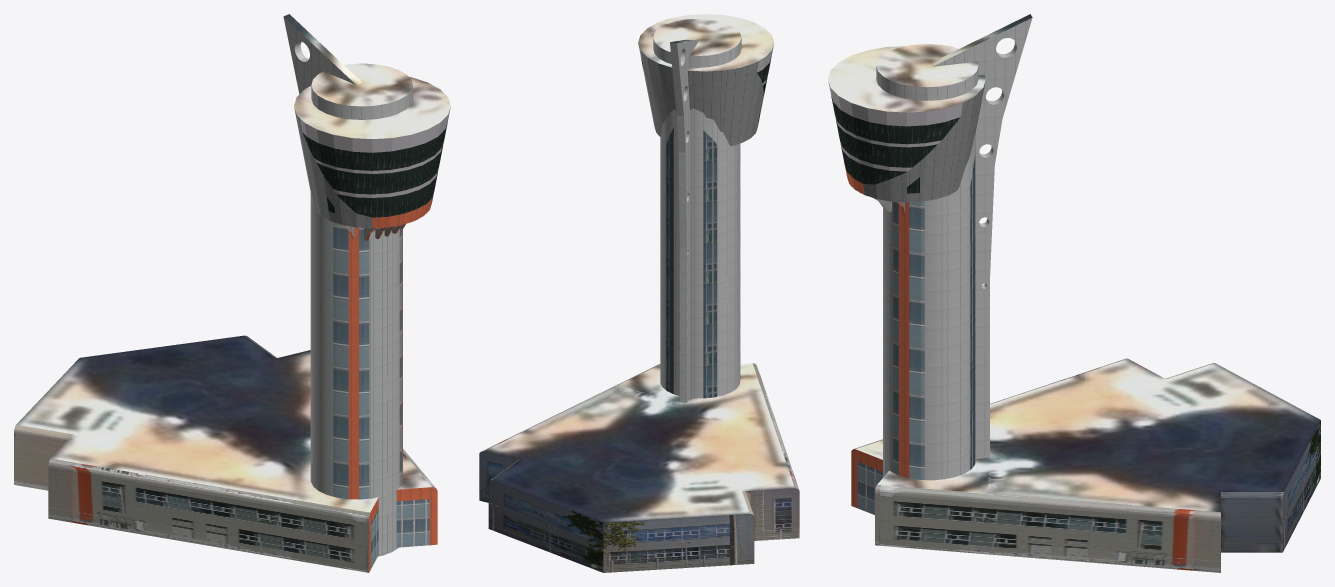
3 views of the same model, side by side, from view 1: azimuth 30°, elevation 25°; view 2: azimuth 150°, elevation 25°; view 3: azimuth 270°, elevation 25° (orthographic). The views are drawn at different scales.
Parts seen in each view (by area): view 1: Model; view 2: Model; view 3: Model.
Part boxes in pixels (bbox=[...]): Model: bbox=[14, 14, 450, 572]; Model: bbox=[479, 14, 799, 572]; Model: bbox=[828, 14, 1320, 572].
Size of the model in its own units: 35.67 by 52.17 by 47.09.
21 materials, 21 textured.
